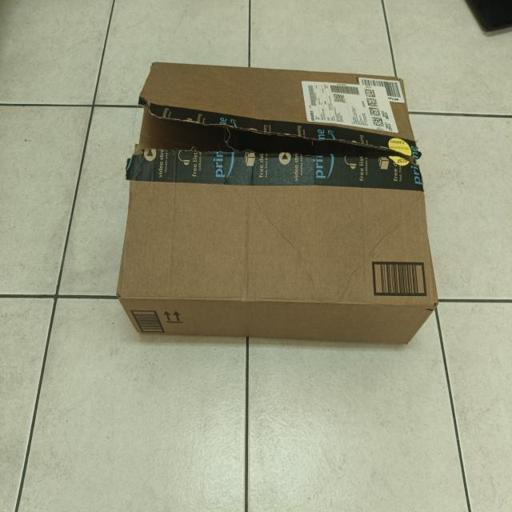Amazon: (113, 58, 442, 352)
